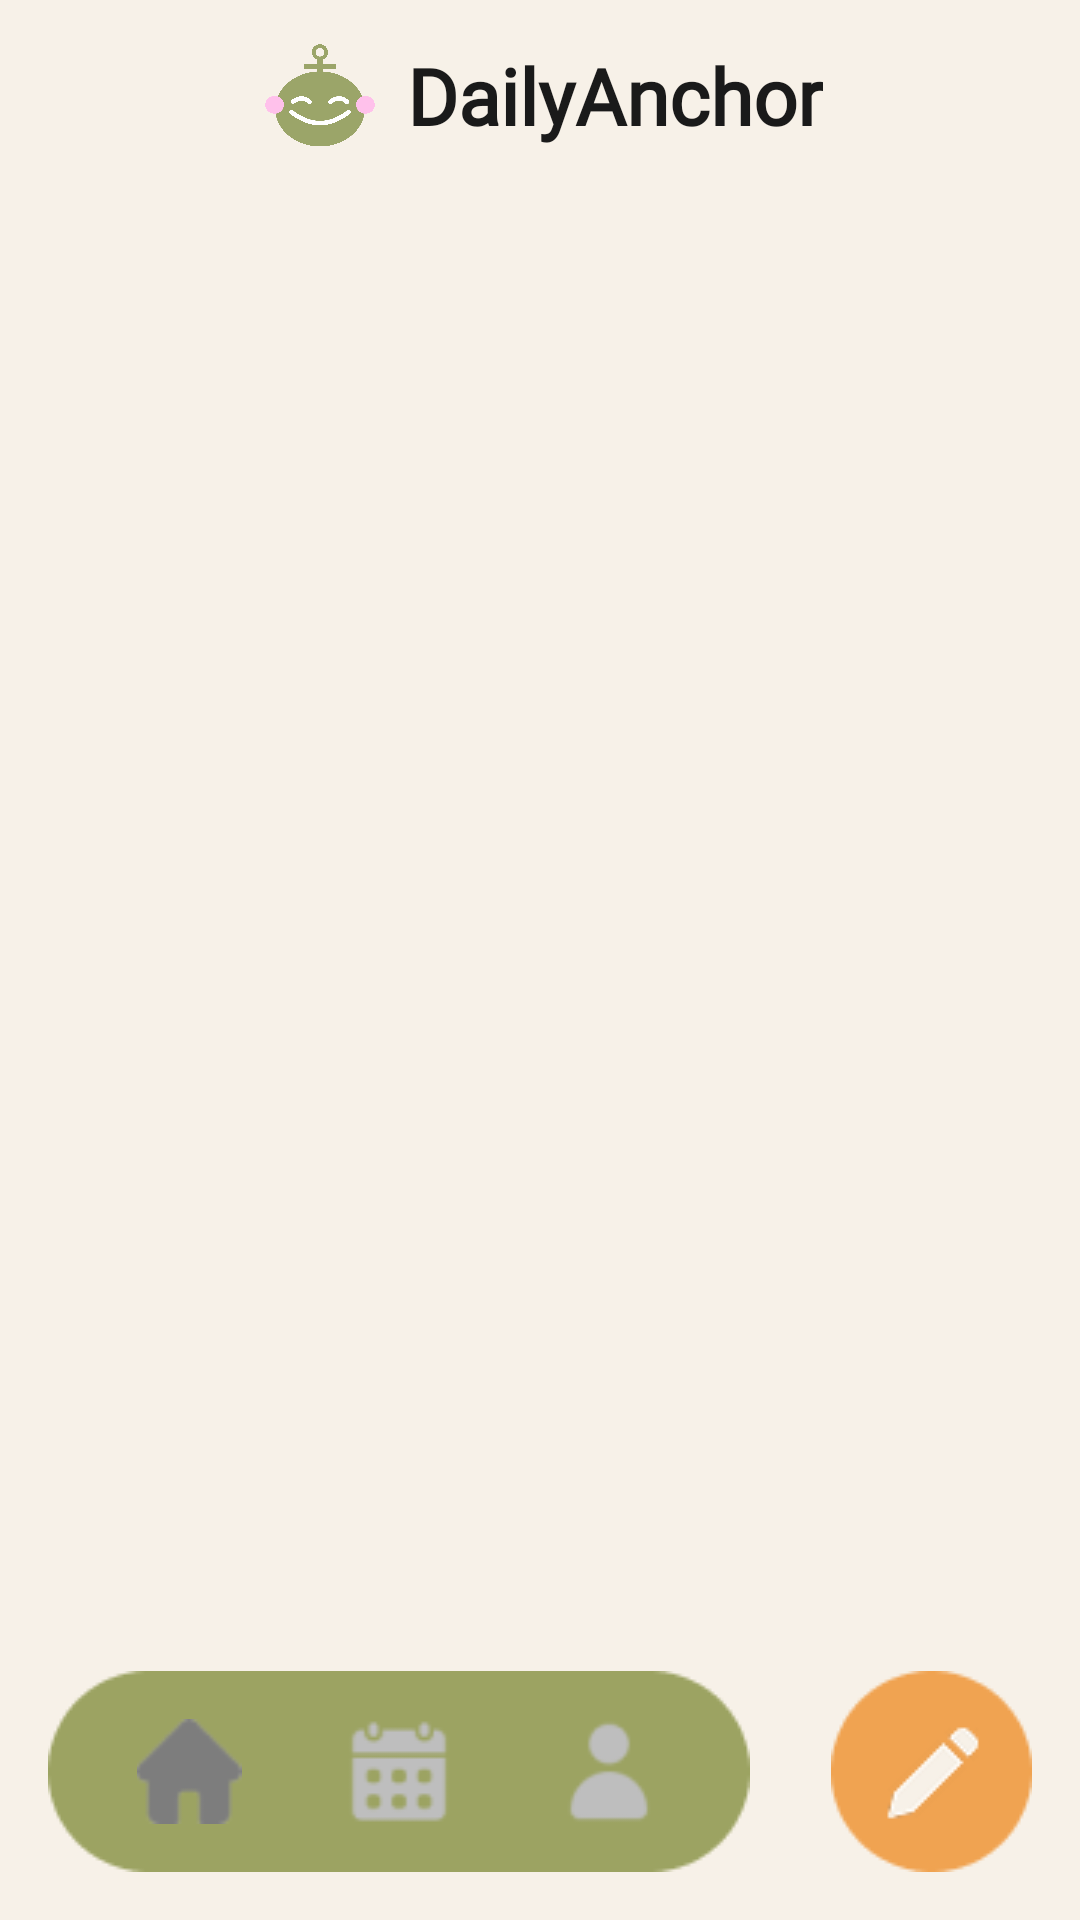

Icon click points for this 1080 × 1920 phone screenshot, format point (x, y):
Calendar: point (399, 1771)
Home: point (189, 1771)
Profile: point (609, 1771)
